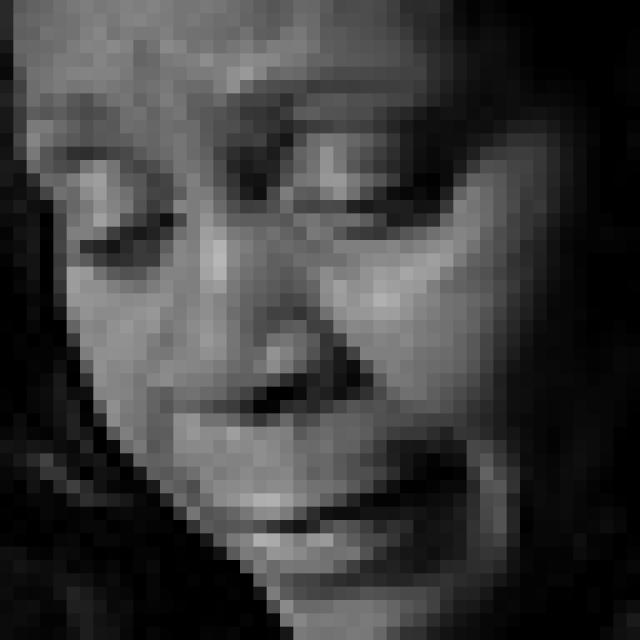sad: (53, 54, 513, 596)
